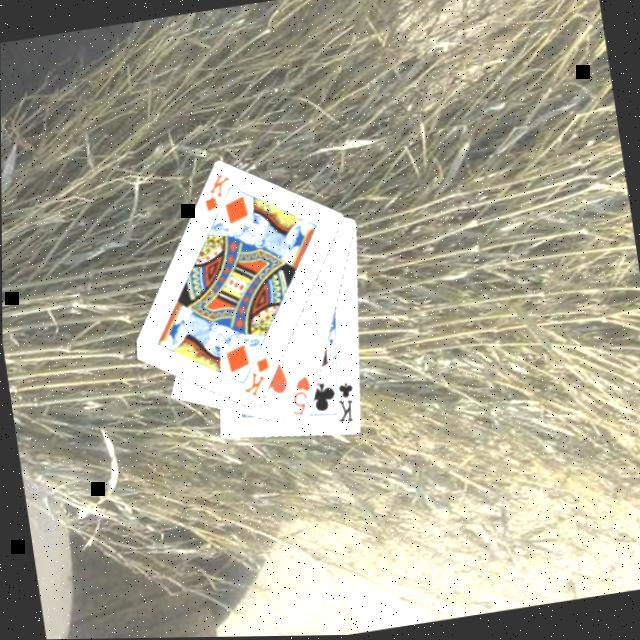5H: (282, 374, 316, 422)
KC: (325, 376, 360, 428)
KD: (234, 355, 275, 403), (196, 171, 237, 217)
